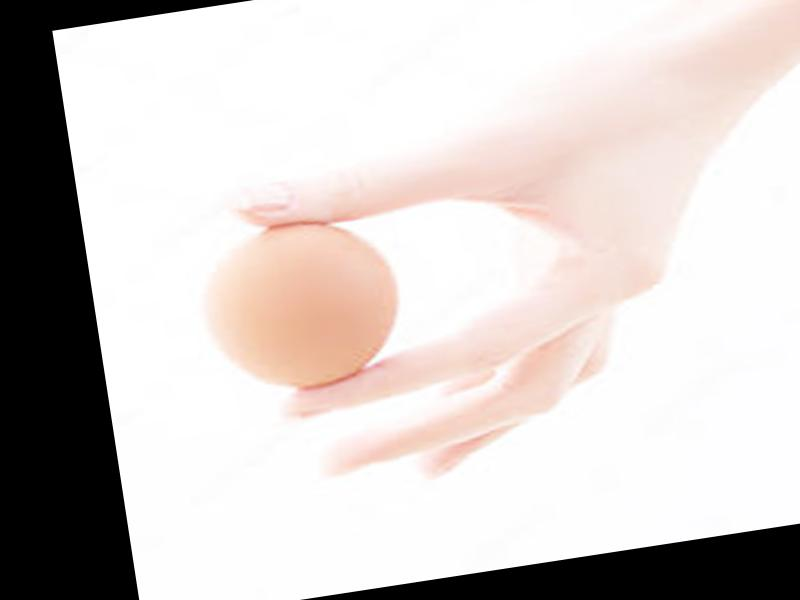Eggs: (195, 208, 406, 403)
